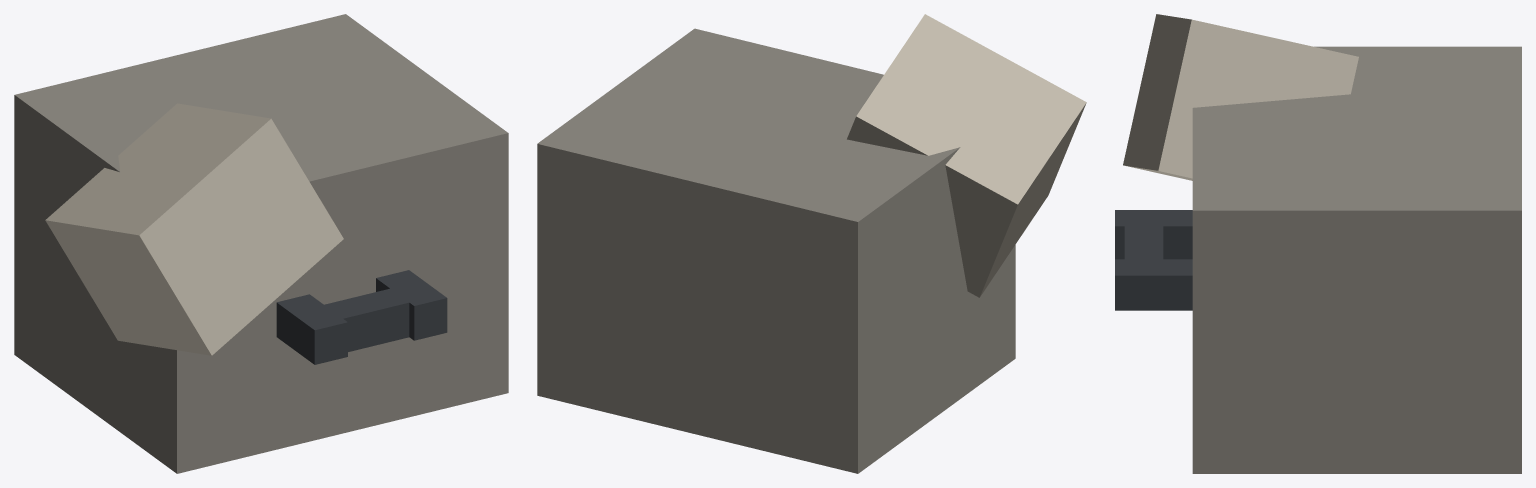
Rendered from WP_ChainWeight.fbx.
The picture shows the model from 3 angles, left to right: view 1: azimuth 30°, elevation 25°; view 2: azimuth 150°, elevation 25°; view 3: azimuth 270°, elevation 25°; orthographic projection. The views are drawn at different scales.
Parts seen in each view (by area): view 1: WP_ChainWeight; view 2: WP_ChainWeight; view 3: WP_ChainWeight.
Boxes of the visible parts, x1,y1,x2,y2 form: WP_ChainWeight: (14, 14, 508, 473); WP_ChainWeight: (537, 14, 1086, 473); WP_ChainWeight: (1115, 14, 1521, 473).
Size of the model in its own units: 0.4811 by 0.42 by 0.3838.
